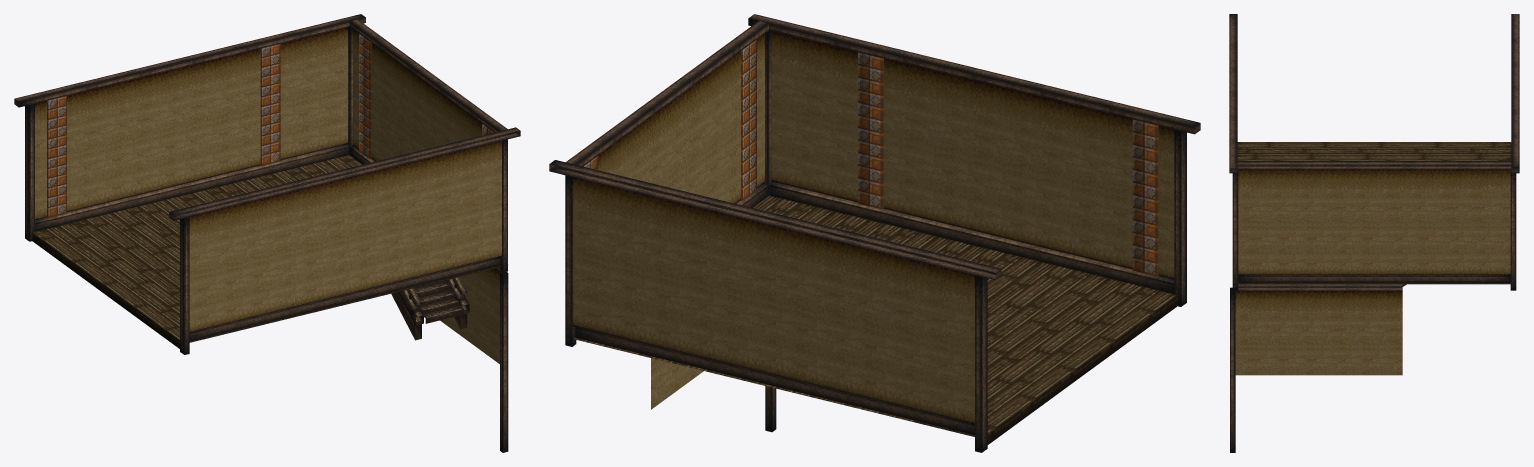
Rendered from EnvBdgMD_Sea_A_Indoor_House_F_2F.FBX.
The picture shows the model from 3 angles, left to right: view 1: azimuth 30°, elevation 25°; view 2: azimuth 150°, elevation 25°; view 3: azimuth 270°, elevation 25°; orthographic projection. The views are drawn at different scales.
Parts seen in each view (by area): view 1: EnvBdgMD_Sea_A_Indoor_House_F_2F; view 2: EnvBdgMD_Sea_A_Indoor_House_F_2F; view 3: EnvBdgMD_Sea_A_Indoor_House_F_2F.
Boxes of the visible parts, x1=… form: EnvBdgMD_Sea_A_Indoor_House_F_2F: x1=14, y1=14, x2=520, y2=452; EnvBdgMD_Sea_A_Indoor_House_F_2F: x1=549, y1=14, x2=1200, y2=452; EnvBdgMD_Sea_A_Indoor_House_F_2F: x1=1229, y1=14, x2=1519, y2=452.
Bounding box in the file's own units: 1300 × 1140 × 1035.
1 material, 1 textured.
